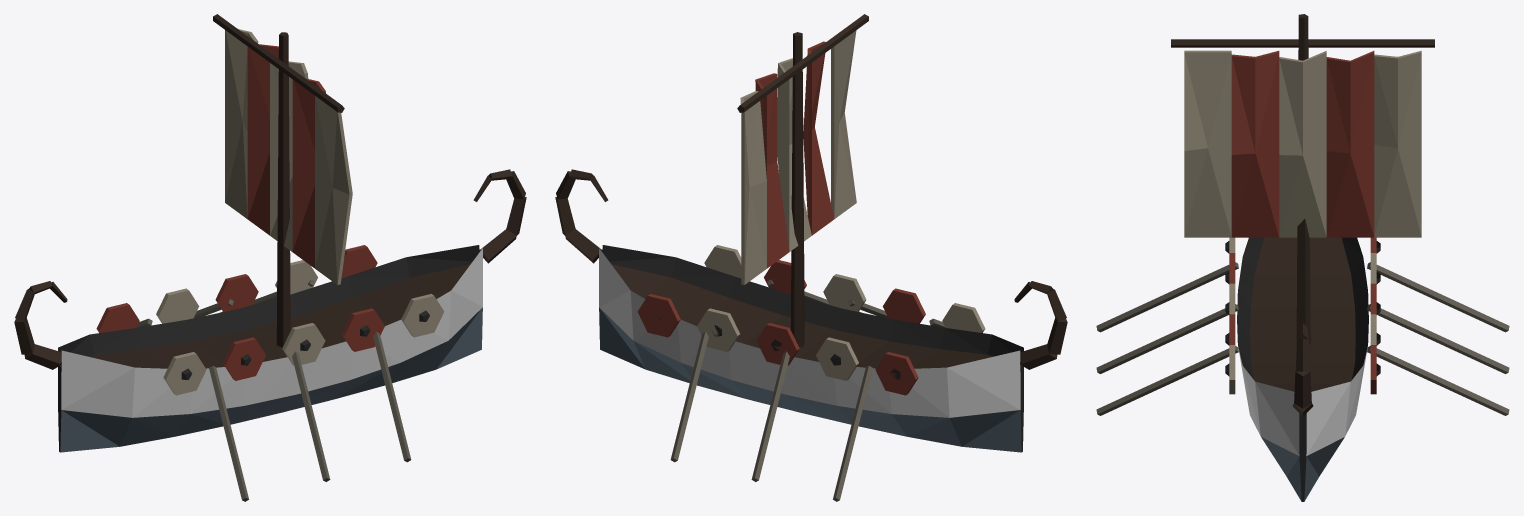
File: longboat.glb
3 renders of one model, left to right at view 1: azimuth 30°, elevation 25°; view 2: azimuth 150°, elevation 25°; view 3: azimuth 270°, elevation 25°, orthographic. The views are drawn at different scales.
Visible parts, largest first — view 1: trim, sail, hull, mast; view 2: trim, sail, hull, mast; view 3: sail, trim, hull, mast.
Boxes of the visible parts, left/top/right/bottom form: trim: left=14, top=169, right=526, bottom=501; sail: left=225, top=29, right=352, bottom=284; hull: left=61, top=248, right=482, bottom=417; mast: left=213, top=14, right=344, bottom=347; trim: left=555, top=169, right=1067, bottom=501; sail: left=740, top=30, right=856, bottom=284; hull: left=599, top=248, right=1020, bottom=417; mast: left=737, top=14, right=868, bottom=347; sail: left=1184, top=50, right=1421, bottom=237; trim: left=1096, top=237, right=1509, bottom=501; hull: left=1238, top=348, right=1367, bottom=455; mast: left=1171, top=14, right=1434, bottom=344.
Size of the model in its own units: 1.9 by 1.3 by 1.25.
